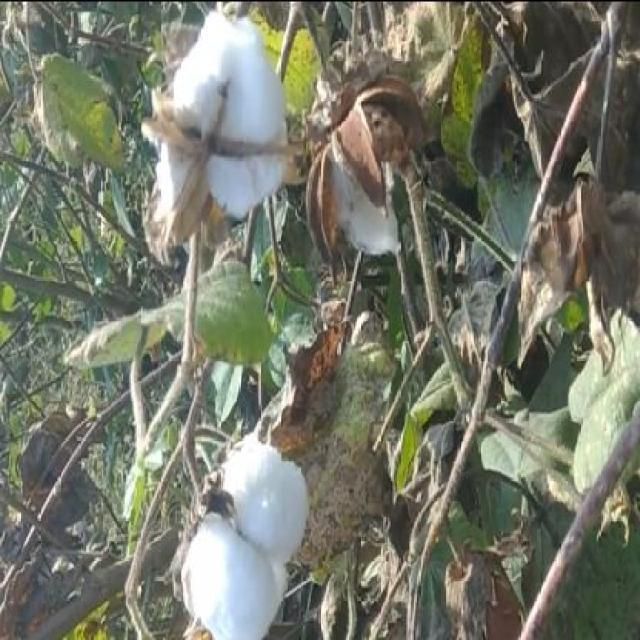cotton_ready: (120, 20, 311, 285), (163, 421, 323, 633)
